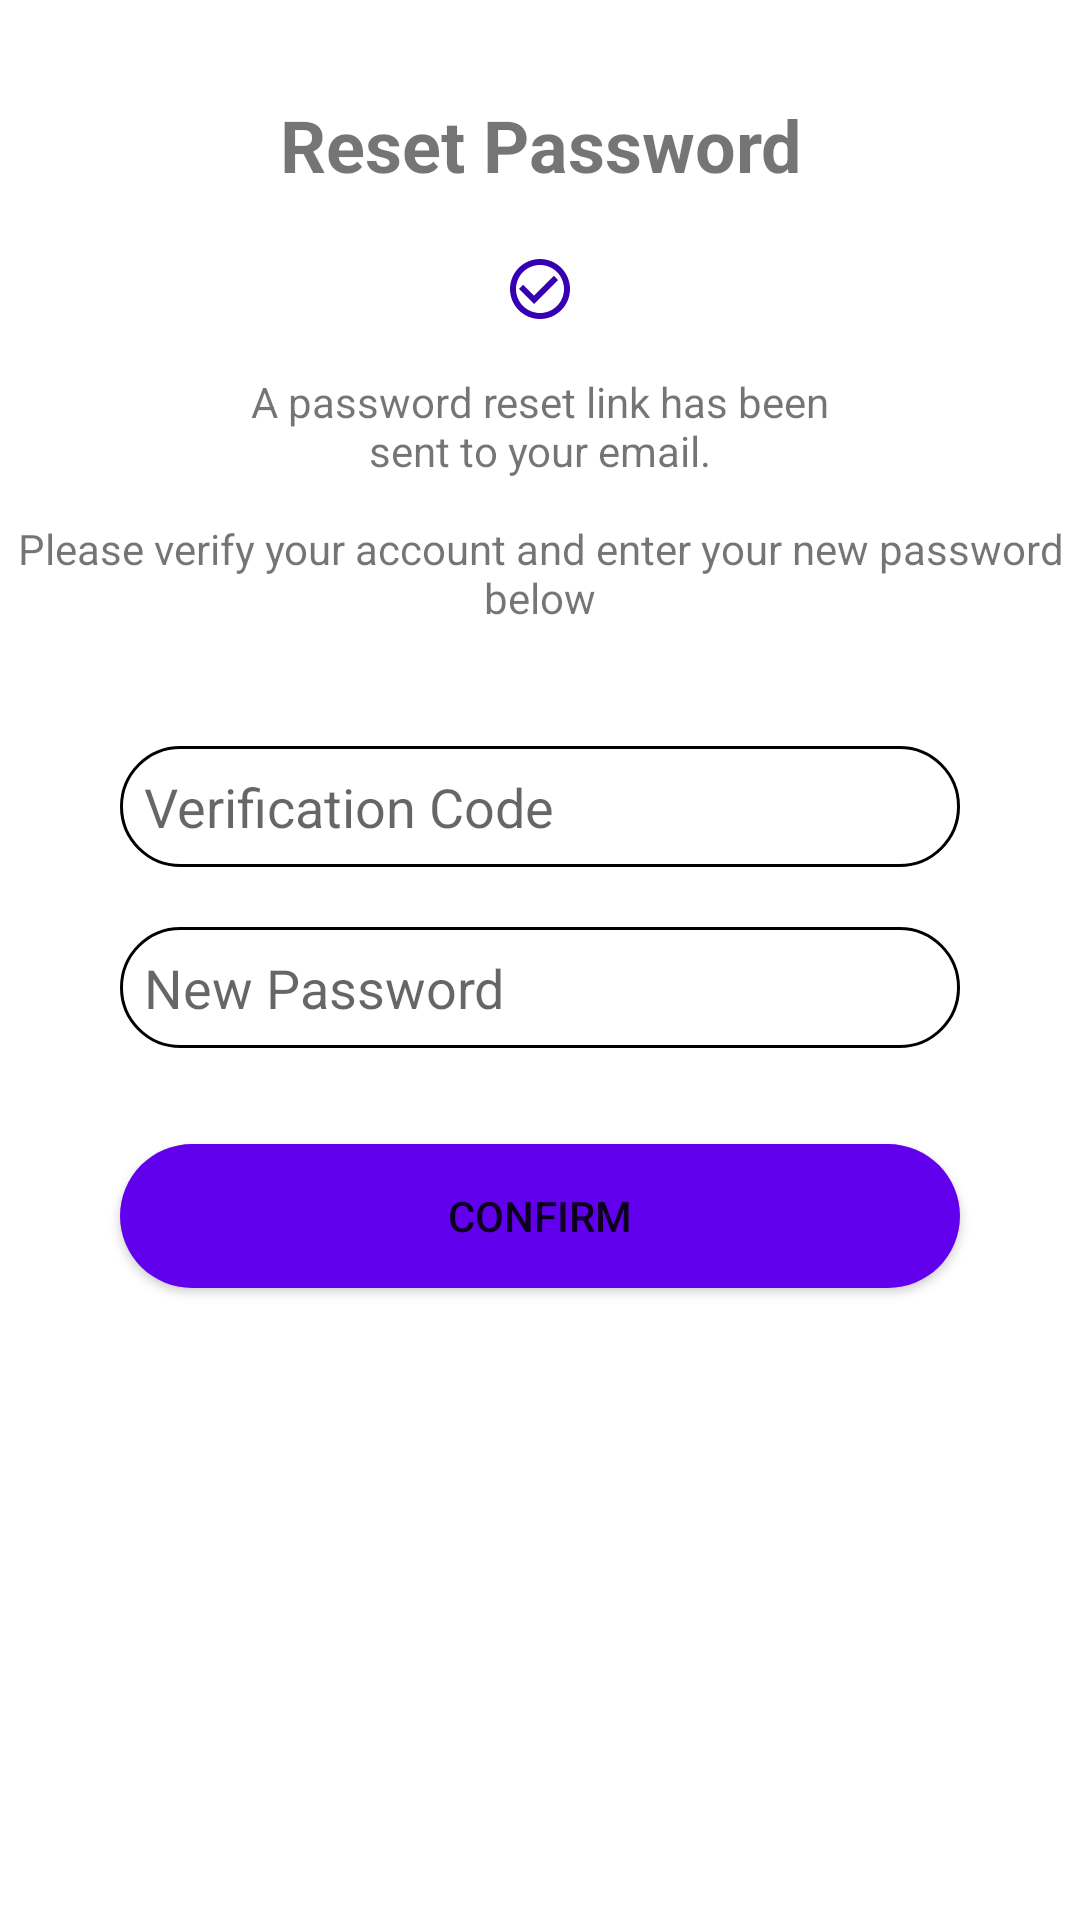

Where to tap for icons on this 1080*1920 app screen, as (x,y):
check circle: (540,289)
